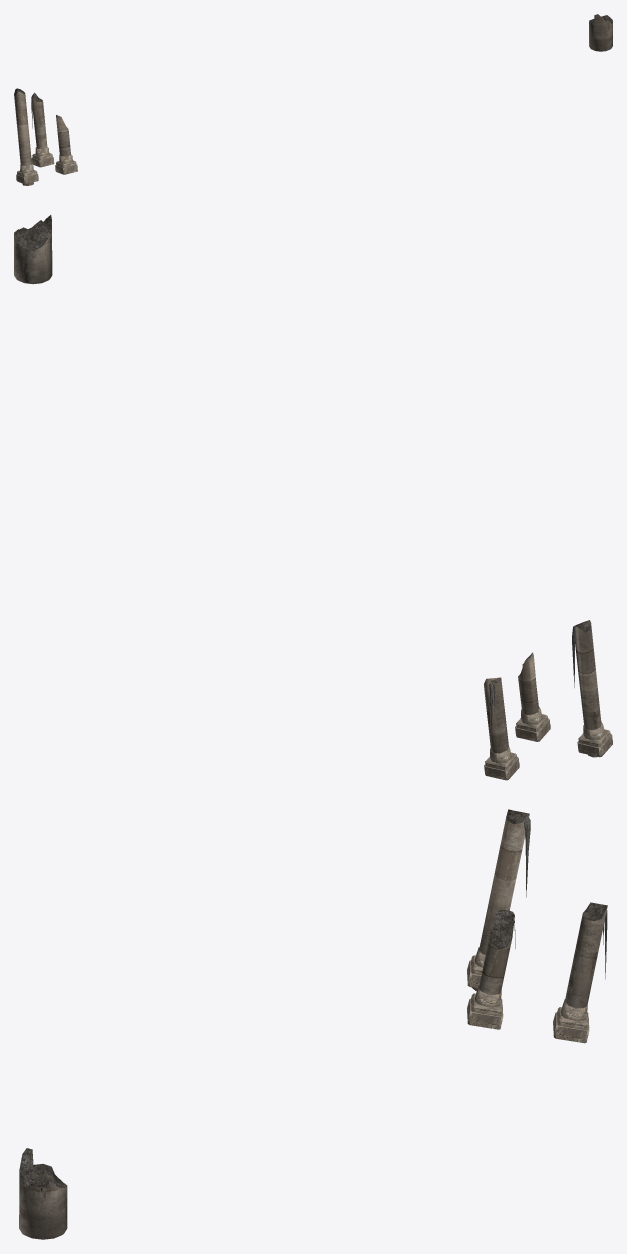
3 views of the same model, one above another, from view 1: azimuth 30°, elevation 25°; view 2: azimuth 150°, elevation 25°; view 3: azimuth 270°, elevation 25° (orthographic). The views are drawn at different scales.
Parts seen in each view (by area): view 1: Material_#32, Material_#29; view 2: Material_#32, Material_#29, Material_#28; view 3: Material_#32, Material_#29, Material_#28.
Part boxes in pixels (x1=…): Material_#32: x1=14, y1=14, x2=612, y2=185; Material_#29: x1=16, y1=147, x2=77, y2=184; Material_#32: x1=14, y1=233, x2=601, y2=757; Material_#29: x1=484, y1=707, x2=612, y2=780; Material_#28: x1=14, y1=215, x2=590, y2=741; Material_#32: x1=19, y1=815, x2=607, y2=1239; Material_#29: x1=467, y1=947, x2=589, y2=1043; Material_#28: x1=19, y1=809, x2=607, y2=1188.
Size of the model in its own units: 72.38 by 21.39 by 38.36.
